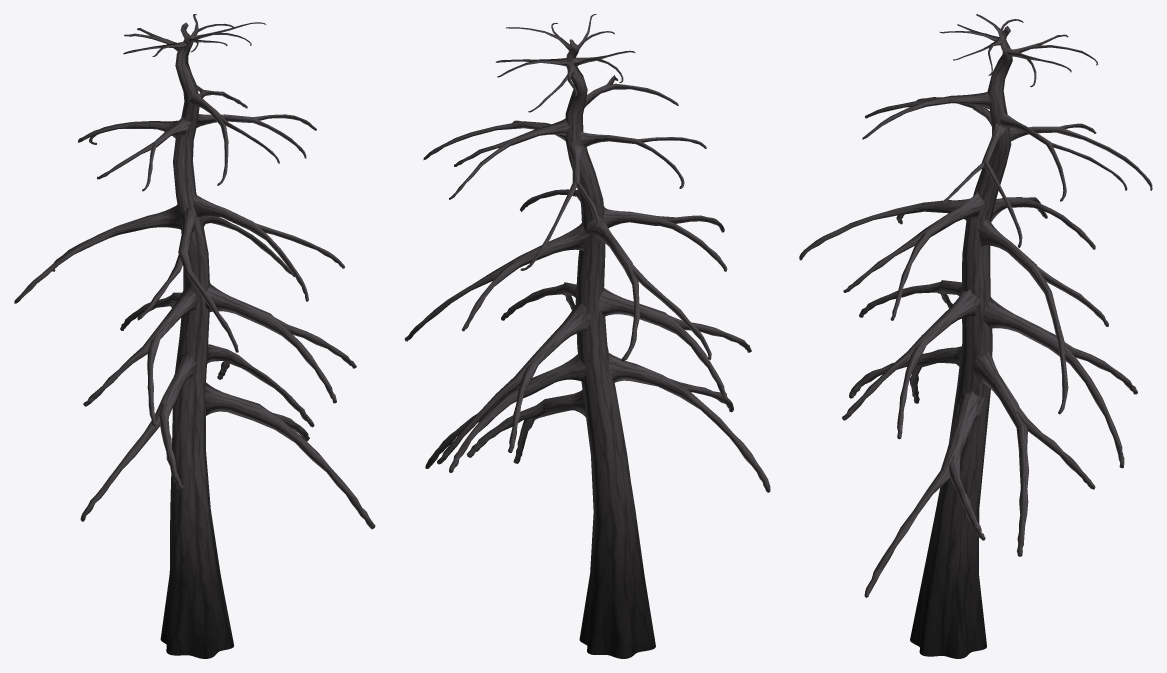
The model's file is DeadTree_5.gltf.
3 views of the same model, side by side, from view 1: azimuth 30°, elevation 25°; view 2: azimuth 150°, elevation 25°; view 3: azimuth 270°, elevation 25° (orthographic). The views are drawn at different scales.
Parts seen in each view (by area): view 1: DeadTree_5; view 2: DeadTree_5; view 3: DeadTree_5.
Part boxes in pixels (x1=…): DeadTree_5: x1=14, y1=14, x2=375, y2=658; DeadTree_5: x1=404, y1=14, x2=770, y2=658; DeadTree_5: x1=799, y1=14, x2=1152, y2=658.
Bounding box in the file's own units: 8.36 × 16.44 × 8.41.
Materials: 1 (1 with a texture image).
